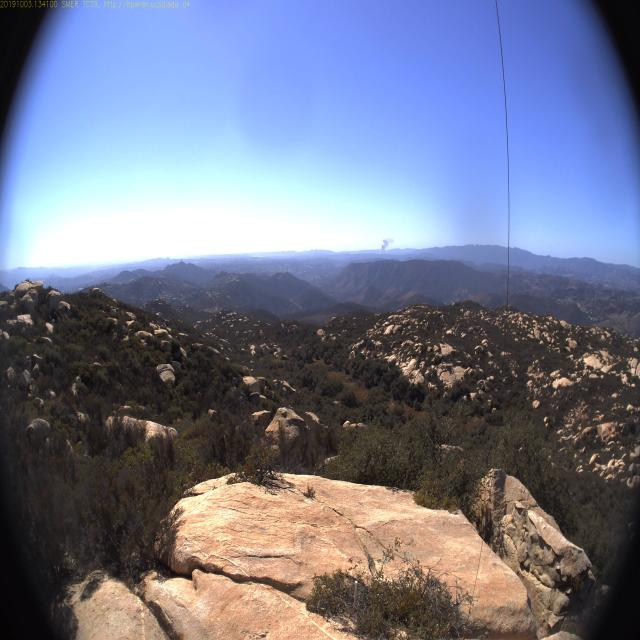smoke: (376, 232, 396, 258), (378, 233, 397, 255)
